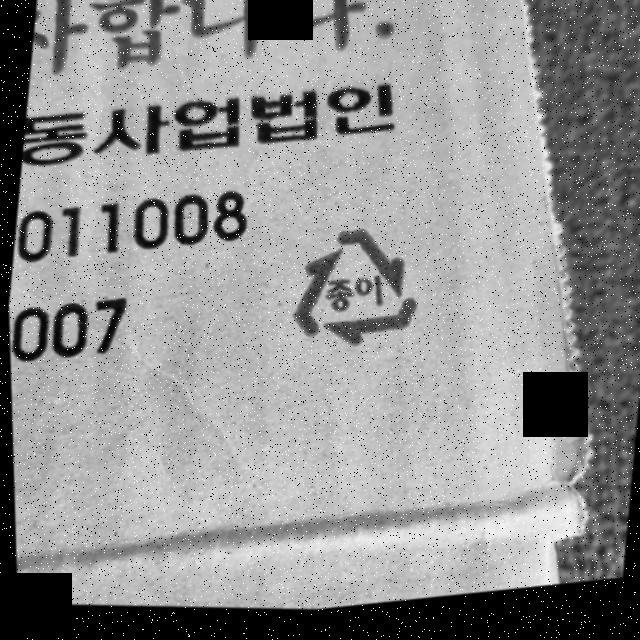Paper: (281, 214, 430, 370)
